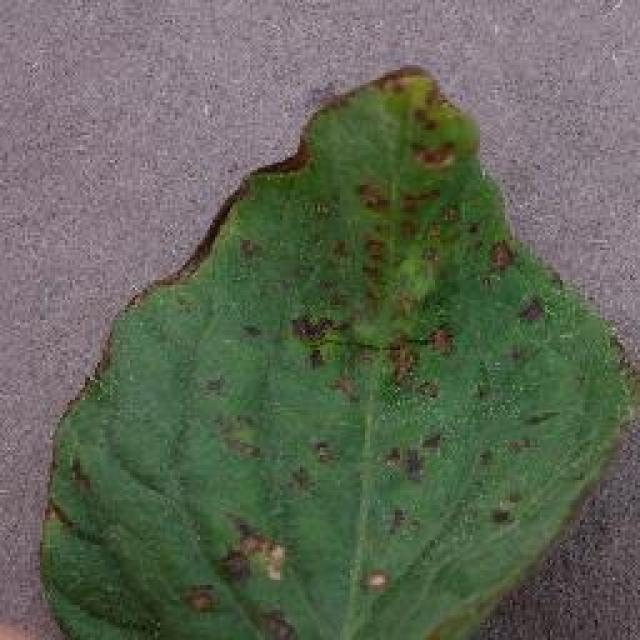Tomato___Bacterial_spot: (34, 65, 638, 638)
